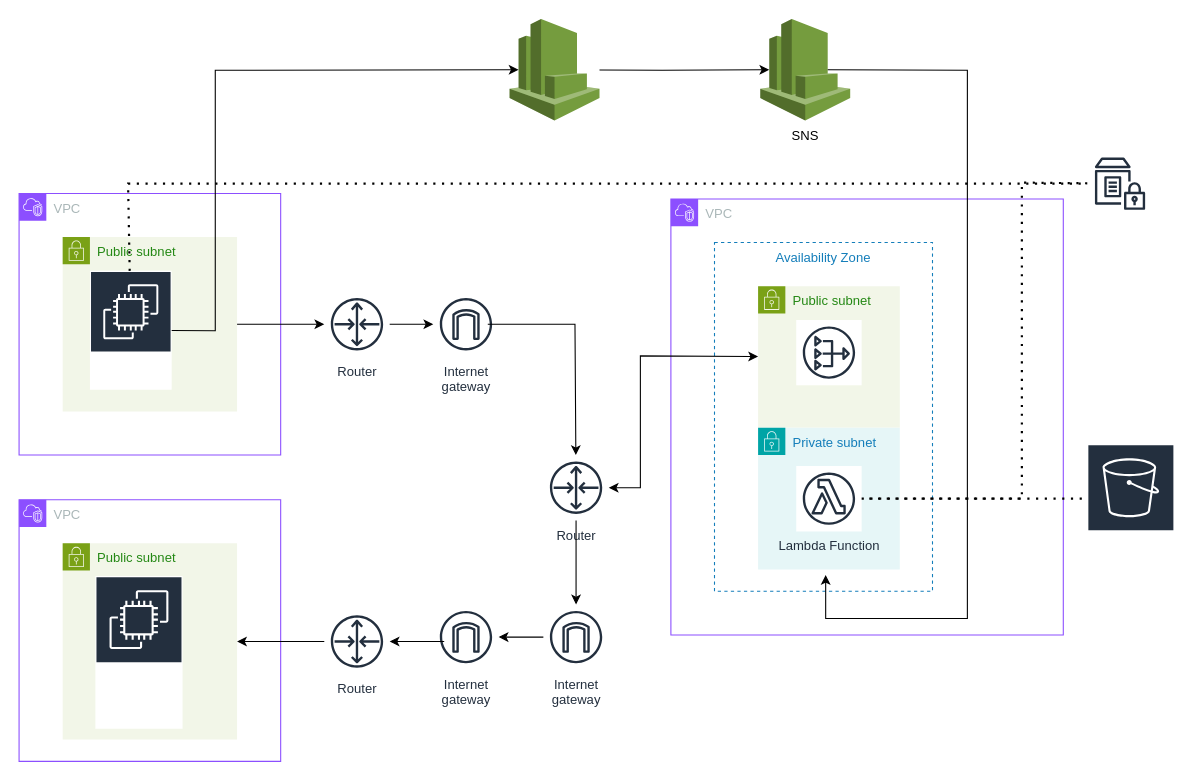
This 1194x780 diagram has some shape labels left out. Each missing label, with the centre of its shape:
Amazon EC2 Disk Monitor: [130,330]
Amazon EC2 Rocket.Chat Elastic IP Address: [138,652]
Amazon S3: [1130,498]
Cloud Watch: [554,69]
NAT gateway Elastic IP Address: [828,352]
Parameter Store: [1119,183]
